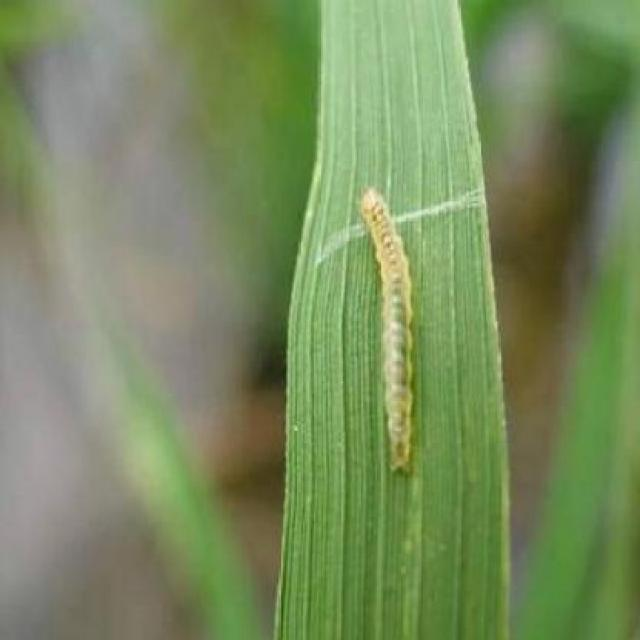leaf-folder: (348, 165, 434, 486)
